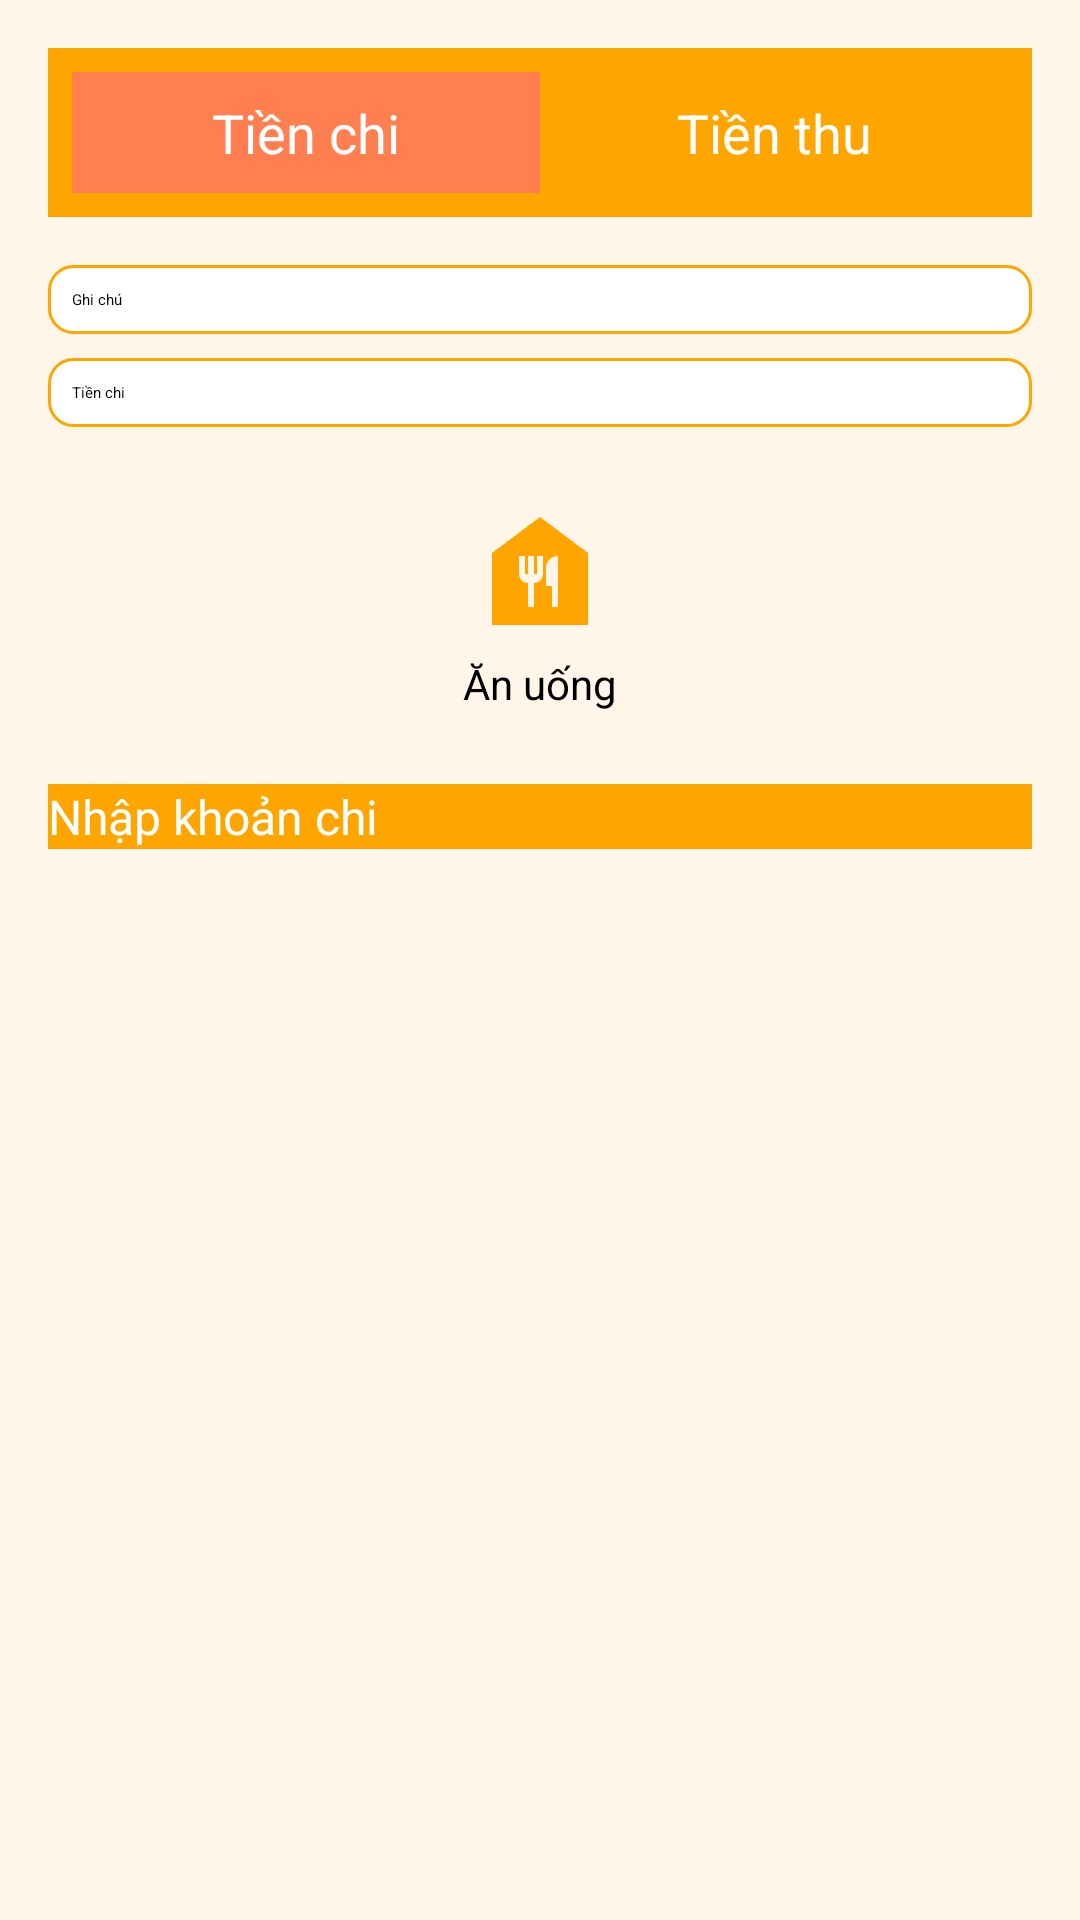

Point at icon controls on the screen. Image size 1080px×1920px, points as (x,y).
food: (540,571)
